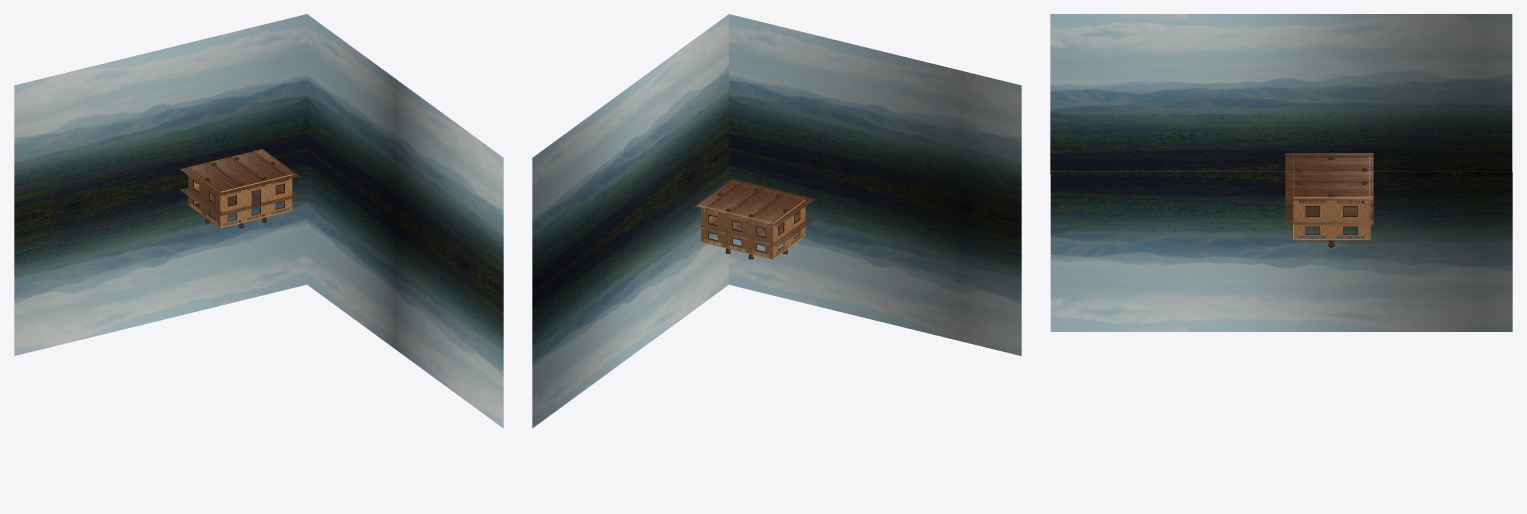
File: kfm3D.glb
3 views of the same model, side by side, from view 1: azimuth 30°, elevation 25°; view 2: azimuth 150°, elevation 25°; view 3: azimuth 270°, elevation 25° (orthographic). The views are drawn at different scales.
Visible parts, largest first — view 1: Mountainside Temple Stage.005, Mountainside Temple Stage.008, Mountainside Temple Stage.006, Mountainside Temple Stage.002, Mountainside Temple Stage.011, Mountainside Temple Stage; view 2: Mountainside Temple Stage.005, Mountainside Temple Stage.008, Mountainside Temple Stage.006, Mountainside Temple Stage.002, Mountainside Temple Stage.011, Mountainside Temple Stage; view 3: Mountainside Temple Stage.005, Mountainside Temple Stage.008, Mountainside Temple Stage.006, Mountainside Temple Stage.002, Mountainside Temple Stage.011, Mountainside Temple Stage.
Boxes of the visible parts, <box> form: Mountainside Temple Stage.005: <box>14,14,503,293</box>; Mountainside Temple Stage.008: <box>14,150,503,428</box>; Mountainside Temple Stage.006: <box>180,149,299,196</box>; Mountainside Temple Stage.002: <box>188,151,292,210</box>; Mountainside Temple Stage.011: <box>187,186,292,228</box>; Mountainside Temple Stage: <box>180,186,299,216</box>; Mountainside Temple Stage.005: <box>532,14,1021,293</box>; Mountainside Temple Stage.008: <box>532,148,1021,428</box>; Mountainside Temple Stage.006: <box>695,179,814,226</box>; Mountainside Temple Stage.002: <box>701,182,805,242</box>; Mountainside Temple Stage.011: <box>700,217,805,259</box>; Mountainside Temple Stage: <box>695,215,814,246</box>; Mountainside Temple Stage.005: <box>1050,14,1512,173</box>; Mountainside Temple Stage.008: <box>1050,171,1512,331</box>; Mountainside Temple Stage.006: <box>1285,153,1373,200</box>; Mountainside Temple Stage.002: <box>1293,156,1369,219</box>; Mountainside Temple Stage.011: <box>1292,201,1370,240</box>; Mountainside Temple Stage: <box>1285,200,1373,224</box>.
Size of the model in its own units: 114 by 101 by 133.
Materials: 12 (12 with a texture image).
